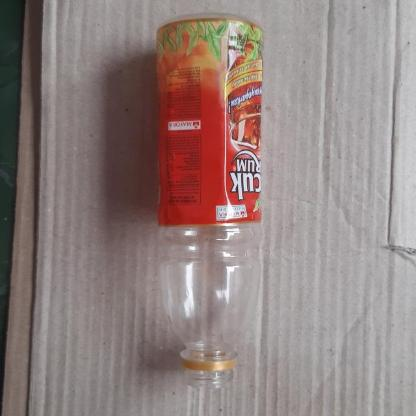Plastic Bottle: (156, 13, 262, 390)
